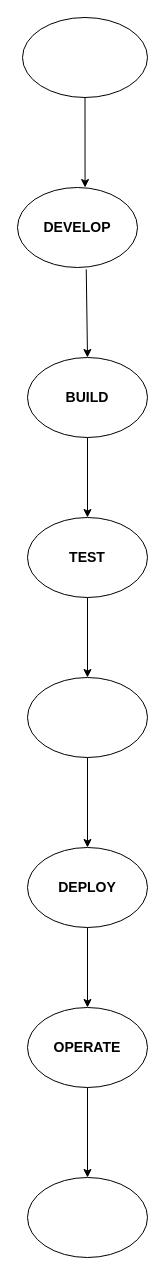
Image size: 165x1275. Some labels were removed from this diagram. Here are the shapes that lost their labels. From the top down, the centre of each, then its label:
At [85,57]: "PLAN".
At [87,717]: "RELESE".
